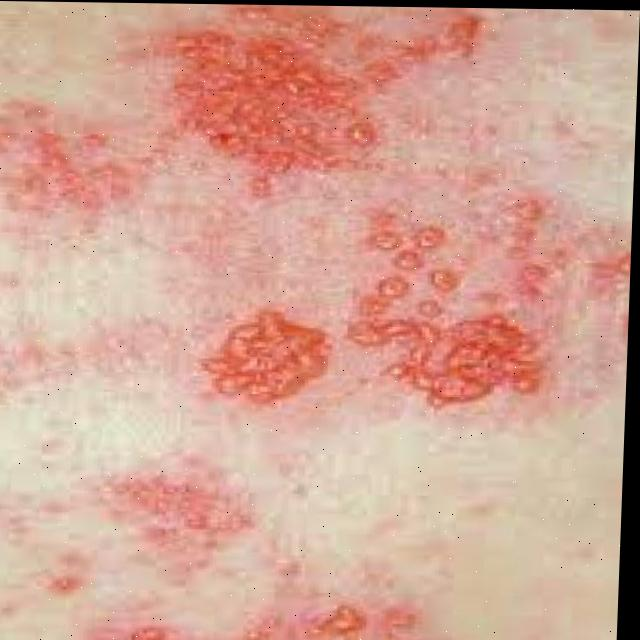Shingles: (0, 0, 542, 640)
